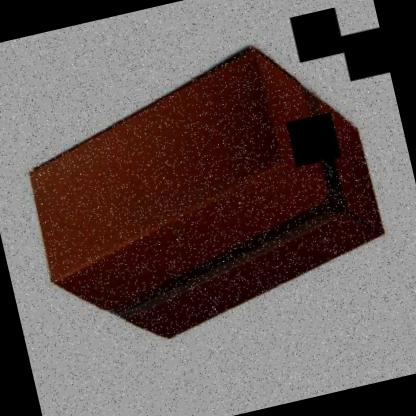box: (0, 18, 406, 378)
